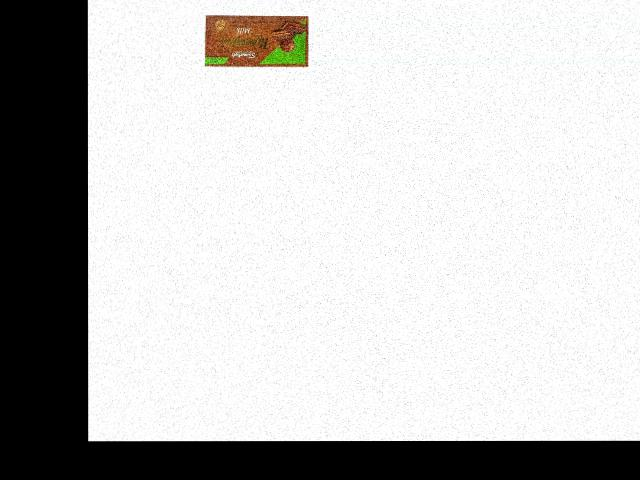chocolate: (200, 10, 310, 69)
